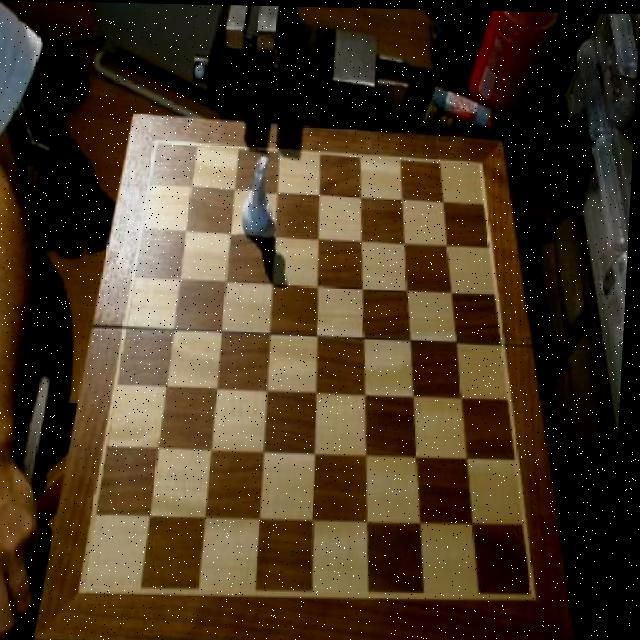white-king: (240, 152, 280, 239)
